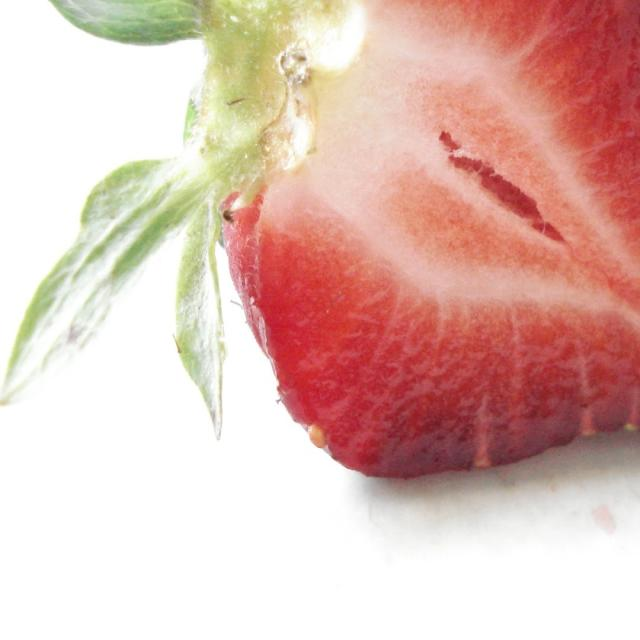strawberry: (25, 0, 640, 495)
